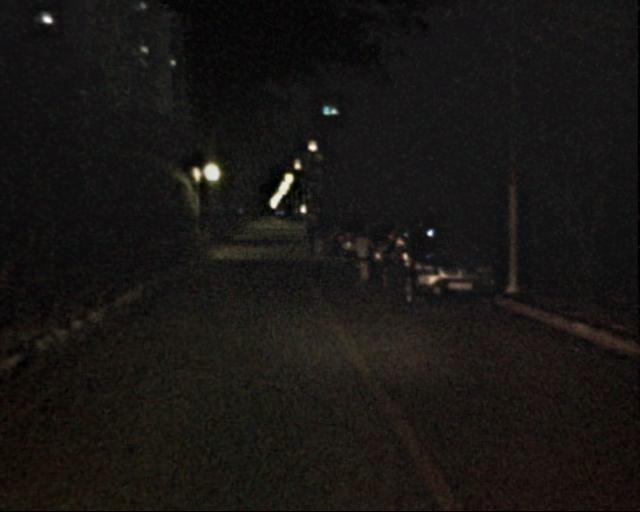person: (347, 225, 372, 285), (307, 221, 323, 259), (298, 225, 308, 250)
